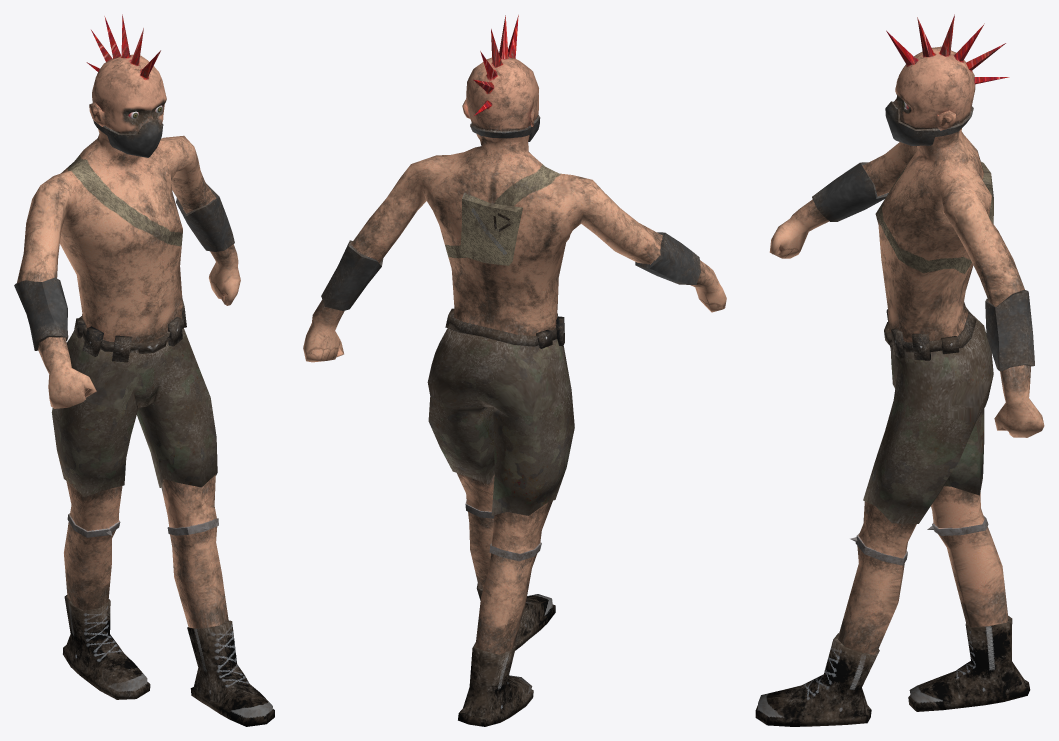
File: Anim_andar_npc2.0032.obj
3 views of the same model, side by side, from view 1: azimuth 30°, elevation 25°; view 2: azimuth 150°, elevation 25°; view 3: azimuth 270°, elevation 25° (orthographic). The views are drawn at different scales.
Parts seen in each view (by area): view 1: Anim_andar_npc2; view 2: Anim_andar_npc2; view 3: Anim_andar_npc2.
Boxes of the visible parts, left/top/right/bottom form: Anim_andar_npc2: left=14, top=14, right=274, bottom=726; Anim_andar_npc2: left=303, top=15, right=726, bottom=726; Anim_andar_npc2: left=755, top=14, right=1044, bottom=726.
Size of the model in its own units: 4.76 by 10.2 by 3.84.
